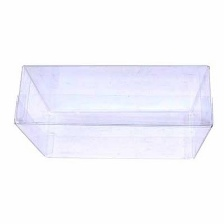plastic_box: (7, 57, 219, 169)
